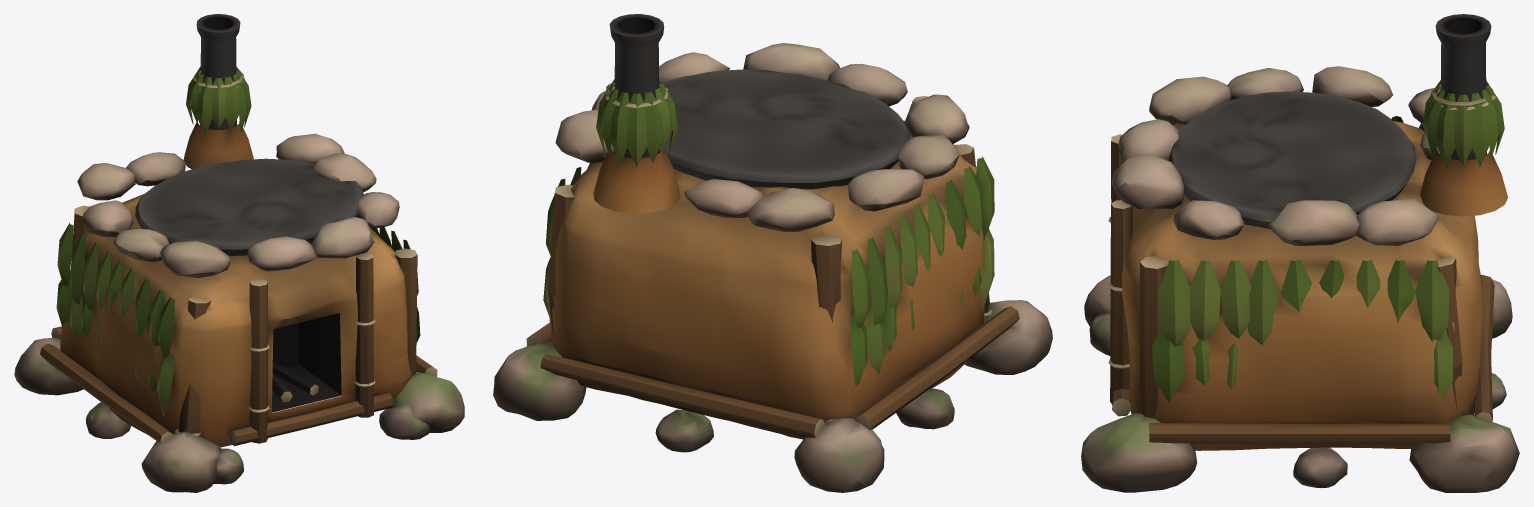
The model's file is building-betterStove-carve-open.glb.
3 views of the same model, side by side, from view 1: azimuth 30°, elevation 25°; view 2: azimuth 150°, elevation 25°; view 3: azimuth 270°, elevation 25° (orthographic). The views are drawn at different scales.
Visible parts, largest first — view 1: 0_body; view 2: 0_body; view 3: 0_body.
Part boxes in pixels (box(x1,y1,x2,y2)): 0_body: box(14, 14, 464, 492); 0_body: box(493, 14, 1052, 492); 0_body: box(1081, 14, 1519, 492).
Size of the model in its own units: 2 by 1.99 by 1.97.
